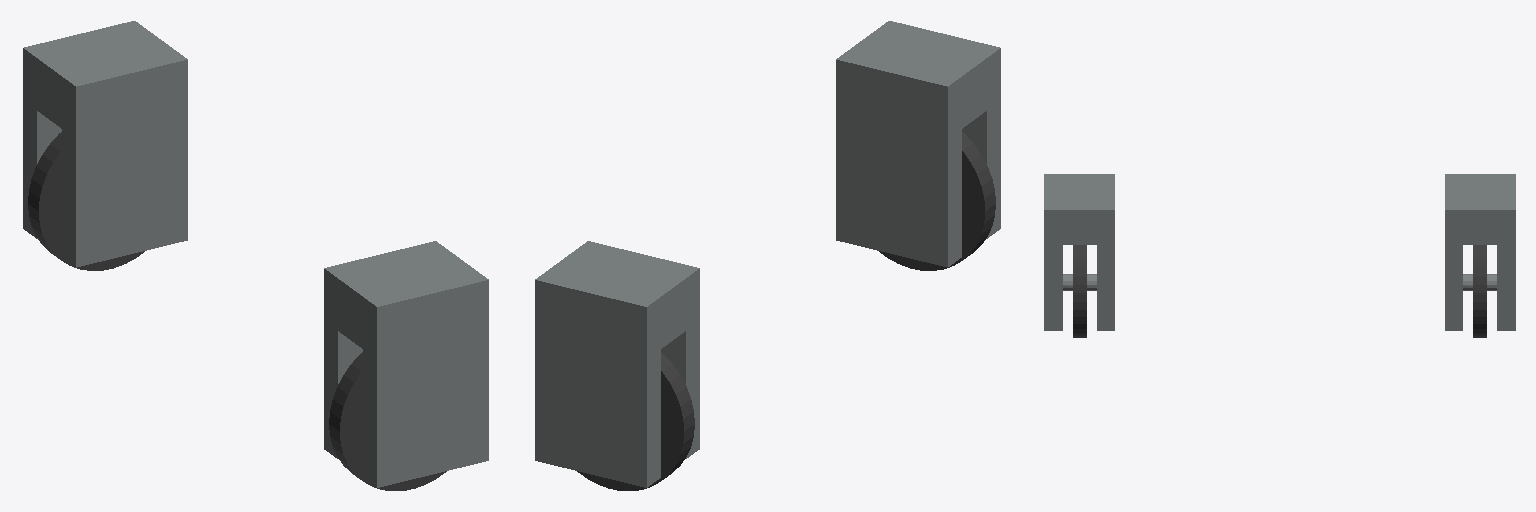
robot.urdf — robot_urdf:
<?xml version="1.0" encoding="utf-8"?>
<!-- This URDF was automatically created by SolidWorks to URDF Exporter! Originally created by Stephen Brawner (brawner@gmail.com) 
     Commit Version: 1.6.0-4-g7f85cfe  Build Version: 1.6.7995.38578
     For more information, please see http://wiki.ros.org/sw_urdf_exporter -->
<robot
  name="robot_urdf">
  <link
    name="base_link">
  </link>
  <link
    name="chassis_link">
    <inertial>
      <origin
        xyz="-0.0014083 -6.245E-17 -0.073421"
        rpy="0 0 0" />
      <mass
        value="3" />
      <inertia
        ixx="6131.8"
        ixy="-1.5482E-12"
        ixz="-5.216"
        iyy="6399.1"
        iyz="3.0535E-14"
        izz="10875" />
    </inertial>
    <visual>
      <origin
        xyz="0 0 0"
        rpy="0 0 0" />
      <geometry>
        <mesh
          filename="package://robot_urdf/meshes/2w/chassis_link.STL" />
      </geometry>
      <material
        name="">
        <color
          rgba="0.52941 0.54902 0.54902 1" />
      </material>
    </visual>
    <collision>
      <origin
        xyz="0 0 0"
        rpy="0 0 0" />
      <geometry>
        <mesh
          filename="package://robot_urdf/meshes/2w/chassis_link.STL" />
      </geometry>
    </collision>
  </link>
  <joint
    name="chassis_joint"
    type="fixed">
    <origin
      xyz="0.011288 -0.015426 0.96832"
      rpy="0 0 0" />
    <parent
      link="base_link" />
    <child
      link="chassis_link" />
    <axis
      xyz="0 0 0" />
  </joint>
  <link
    name="left_wheel_holder_link">
    <inertial>
      <origin
        xyz="3.4694E-17 0 -0.19944"
        rpy="0 0 0" />
      <mass
        value="1" />
      <inertia
        ixx="4.7304"
        ixy="-2.0721E-19"
        ixz="-2.9236E-16"
        iyy="4.794"
        iyz="2.8492E-17"
        izz="2.6221" />
    </inertial>
    <visual>
      <origin
        xyz="0 0 0"
        rpy="0 0 0" />
      <geometry>
        <mesh
          filename="package://robot_urdf/meshes/2w/left_wheel_holder_link.STL" />
      </geometry>
      <material
        name="">
        <color
          rgba="0.52941 0.54902 0.54902 1" />
      </material>
    </visual>
    <collision>
      <origin
        xyz="0 0 0"
        rpy="0 0 0" />
      <geometry>
        <mesh
          filename="package://robot_urdf/meshes/2w/left_wheel_holder_link.STL" />
      </geometry>
    </collision>
  </link>
  <joint
    name="left_wheel_holder_joint"
    type="fixed">
    <origin
      xyz="-0.067275 0.7012 -0.42432"
      rpy="0 0 0" />
    <parent
      link="chassis_link" />
    <child
      link="left_wheel_holder_link" />
    <axis
      xyz="0 0 0" />
  </joint>
  <link
    name="left_wheel_link">
    <inertial>
      <origin
        xyz="-6.9389E-18 1.1102E-16 0"
        rpy="0 0 0" />
      <mass
        value="1" />
      <inertia
        ixx="0.056856"
        ixy="-6.9119E-18"
        ixz="-4.2487E-34"
        iyy="0.11125"
        iyz="-5.5409E-35"
        izz="0.056856" />
    </inertial>
    <visual>
      <origin
        xyz="0 0 0"
        rpy="0 0 0" />
      <geometry>
        <mesh
          filename="package://robot_urdf/meshes/2w/left_wheel_link.STL" />
      </geometry>
      <material
        name="">
        <color
          rgba="0.29804 0.29804 0.29804 1" />
      </material>
    </visual>
    <collision>
      <origin
        xyz="0 0 0"
        rpy="0 0 0" />
      <geometry>
        <mesh
          filename="package://robot_urdf/meshes/2w/left_wheel_link.STL" />
      </geometry>
    </collision>
  </link>
  <joint
    name="left_wheel_joint"
    type="continuous">
    <origin
      xyz="0 0 -0.35"
      rpy="0 0 0" />
    <parent
      link="left_wheel_holder_link" />
    <child
      link="left_wheel_link" />
    <axis
      xyz="0 -1 0" />
  </joint>
  <link
    name="right_wheel_holder_link">
    <inertial>
      <origin
        xyz="2.0817E-17 0 -0.19944"
        rpy="0 0 0" />
      <mass
        value="1" />
      <inertia
        ixx="4.7304"
        ixy="1.6133E-18"
        ixz="-2.8542E-16"
        iyy="4.794"
        iyz="1.9438E-17"
        izz="2.6221" />
    </inertial>
    <visual>
      <origin
        xyz="0 0 0"
        rpy="0 0 0" />
      <geometry>
        <mesh
          filename="package://robot_urdf/meshes/2w/right_wheel_holder_link.STL" />
      </geometry>
      <material
        name="">
        <color
          rgba="0.52941 0.54902 0.54902 1" />
      </material>
    </visual>
    <collision>
      <origin
        xyz="0 0 0"
        rpy="0 0 0" />
      <geometry>
        <mesh
          filename="package://robot_urdf/meshes/2w/right_wheel_holder_link.STL" />
      </geometry>
    </collision>
  </link>
  <joint
    name="right_wheel_holder_joint"
    type="fixed">
    <origin
      xyz="-0.067275 -0.7012 -0.42432"
      rpy="0 0 0" />
    <parent
      link="chassis_link" />
    <child
      link="right_wheel_holder_link" />
    <axis
      xyz="0 0 0" />
  </joint>
  <link
    name="right_wheel_link">
    <inertial>
      <origin
        xyz="-6.9389E-18 -1.1102E-16 -2.7756E-17"
        rpy="0 0 0" />
      <mass
        value="1" />
      <inertia
        ixx="0.056856"
        ixy="-3.2189E-35"
        ixz="-8.4142E-34"
        iyy="0.11125"
        iyz="1.4733E-18"
        izz="0.056856" />
    </inertial>
    <visual>
      <origin
        xyz="0 0 0"
        rpy="0 0 0" />
      <geometry>
        <mesh
          filename="package://robot_urdf/meshes/2w/right_wheel_link.STL" />
      </geometry>
      <material
        name="">
        <color
          rgba="0.29804 0.29804 0.29804 1" />
      </material>
    </visual>
    <collision>
      <origin
        xyz="0 0 0"
        rpy="0 0 0" />
      <geometry>
        <mesh
          filename="package://robot_urdf/meshes/2w/right_wheel_link.STL" />
      </geometry>
    </collision>
  </link>
  <joint
    name="right_wheel_joint"
    type="continuous">
    <origin
      xyz="0 0 -0.35"
      rpy="0 0 0" />
    <parent
      link="right_wheel_holder_link" />
    <child
      link="right_wheel_link" />
    <axis
      xyz="0 -1 0" />
  </joint>
  <link
    name="depth_camera_link">
  </link>

  <joint
    name="depth_camera_joint"
    type="fixed">
    <origin
      xyz="1.017 0 0"
      rpy="0 0 0" />
    <parent
      link="chassis_link" />
    <child
      link="depth_camera_link" />
    <axis
      xyz="0 0 0" />
  </joint>
</robot>

--- Render facts (derived) ---
Views: 3 orthographic renders of the robot side by side, from view 1: azimuth 30°, elevation 25°; view 2: azimuth 150°, elevation 25°; view 3: azimuth 270°, elevation 25°.
Robot: robot_urdf — 7 links, 6 joints (2 continuous, 4 fixed); root link base_link; default pose: all joints at 0.
Links seen in each view (by area): view 1: right_wheel_holder_link, left_wheel_holder_link, left_wheel_link, right_wheel_link; view 2: left_wheel_holder_link, right_wheel_holder_link, right_wheel_link, left_wheel_link; view 3: left_wheel_holder_link, right_wheel_holder_link, left_wheel_link, right_wheel_link.
Link boxes in pixels (x1,y1,x2,y2): right_wheel_holder_link: [324, 241, 488, 487]; left_wheel_holder_link: [23, 21, 187, 267]; left_wheel_link: [28, 132, 144, 270]; right_wheel_link: [329, 352, 446, 490]; left_wheel_holder_link: [535, 241, 699, 487]; right_wheel_holder_link: [836, 21, 1000, 267]; right_wheel_link: [879, 132, 995, 270]; left_wheel_link: [577, 352, 694, 490]; left_wheel_holder_link: [1445, 174, 1515, 330]; right_wheel_holder_link: [1044, 174, 1114, 330]; left_wheel_link: [1473, 245, 1486, 337]; right_wheel_link: [1073, 245, 1086, 337].
Bounding box of the posed robot: 0.3874 × 1.65 × 0.5438 m (x, y, z).
4 mesh visuals loaded from 5 distinct referenced files (4 binary STL); not drawn: 1 (reference not matched to a file when rendering).
